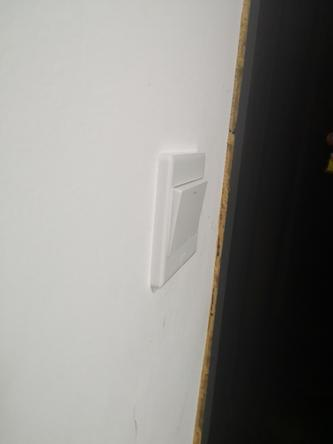switch: (166, 169, 209, 261)
